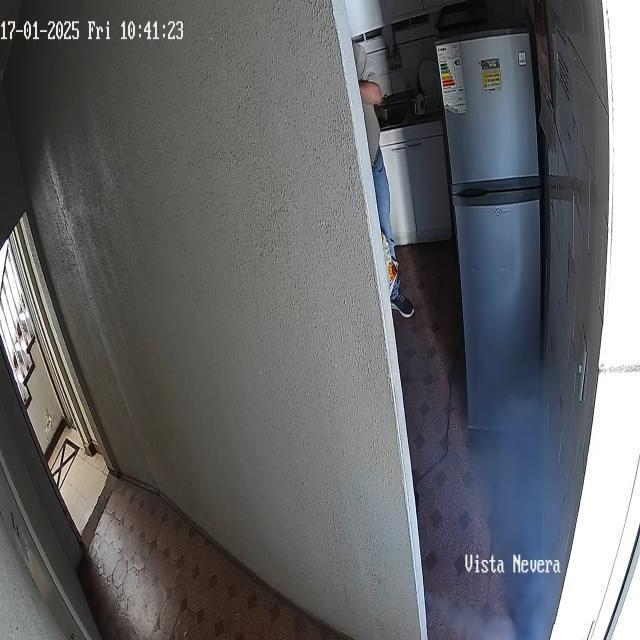fire: (416, 352, 582, 639)
